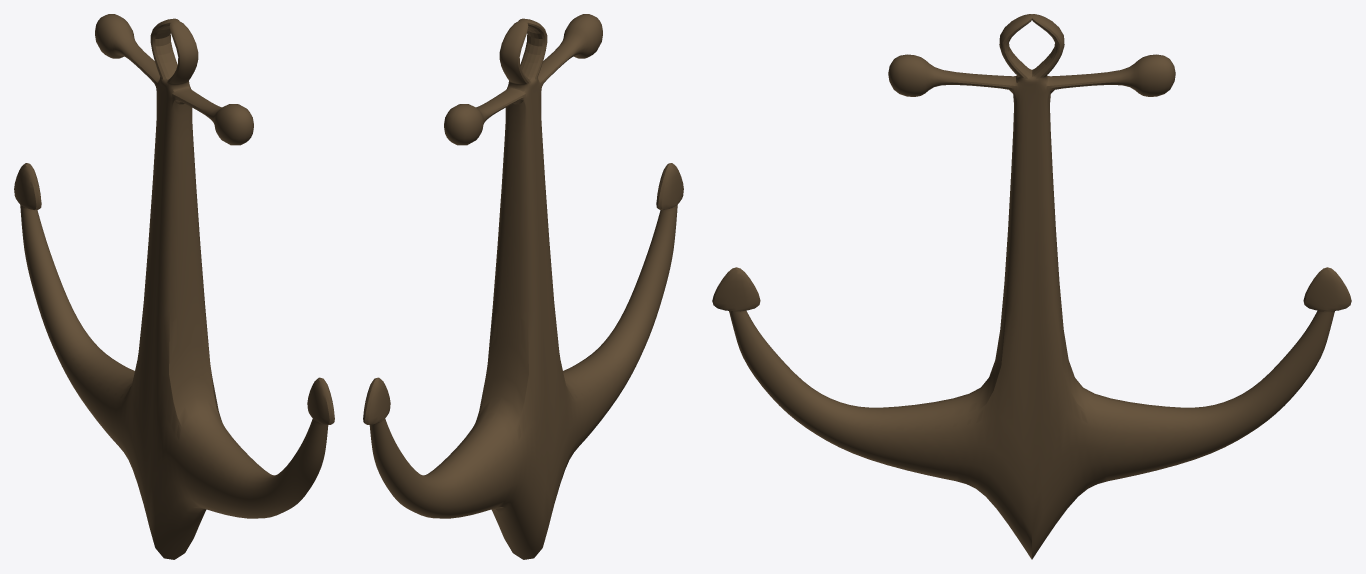
The model's file is ancora.fbx.
The picture shows the model from 3 angles, left to right: view 1: azimuth 30°, elevation 25°; view 2: azimuth 150°, elevation 25°; view 3: azimuth 270°, elevation 25°; orthographic projection.
Parts seen in each view (by area): view 1: ancora; view 2: ancora; view 3: ancora.
Boxes of the visible parts, x1,y1,x2,y2 form: ancora: (14, 14, 334, 559); ancora: (363, 14, 683, 559); ancora: (712, 14, 1351, 559).
Size of the model in its own units: 65.04 by 610 by 650.
